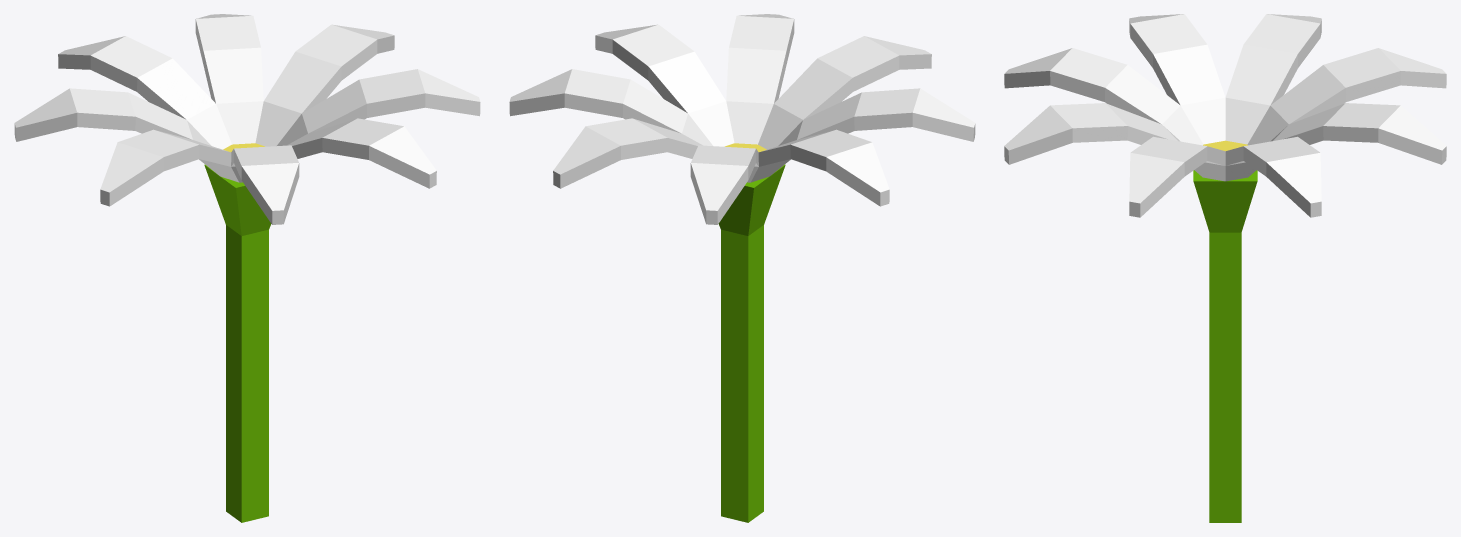
File: Flower_W.fbx
3 views of the same model, side by side, from view 1: azimuth 30°, elevation 25°; view 2: azimuth 150°, elevation 25°; view 3: azimuth 270°, elevation 25° (orthographic).
Parts seen in each view (by area): view 1: Flower_01_Bloom; view 2: Flower_01_Bloom; view 3: Flower_01_Bloom.
Boxes of the visible parts, x1=… form: Flower_01_Bloom: x1=14, y1=14, x2=480, y2=522; Flower_01_Bloom: x1=509, y1=14, x2=975, y2=522; Flower_01_Bloom: x1=1004, y1=14, x2=1446, y2=522.
Bounding box in the file's own units: 16.58 × 17.7 × 16.58.
1 material, 1 textured.
